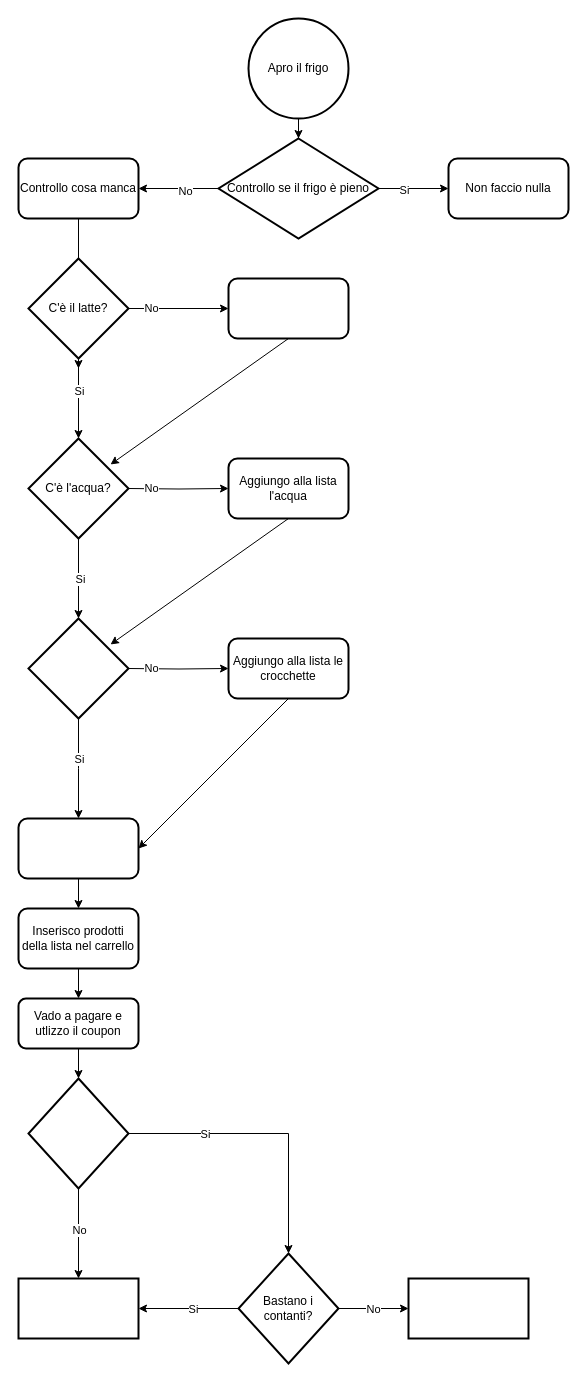
Image size: 586x1381. Some labels were removed from this diagram. The shapes that lost their labels are listed below. From the top down, each one's centre as x and y in pixels, then its label:
At point (288, 308): "Aggiungo alla lista il latte".
At point (78, 668): "Ci sono le crocchette?".
At point (78, 848): "Vado a fare la spesa".
At point (78, 1133): "Ho preso snack extra?".
At point (78, 1308): "Pago in contanti".
At point (468, 1308): "Pago con il bancomat".
